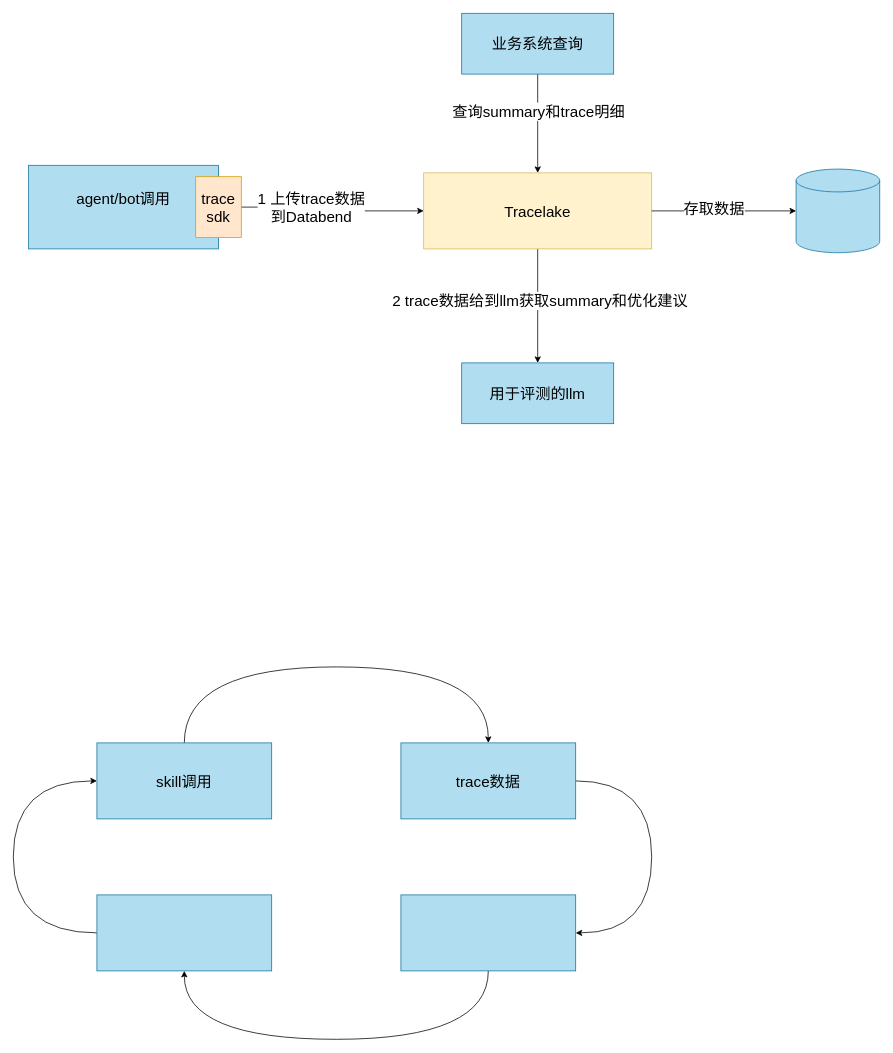
Image size: 893x1053. Some labels were removed from this diagram. The shapes that lost their labels are listed below. From the top down, each one's centre as x and y in pixels, then its label:
At [837,210]: "Databend".
At [184,932]: "改进/追溯".
At [488,932]: "打分".
